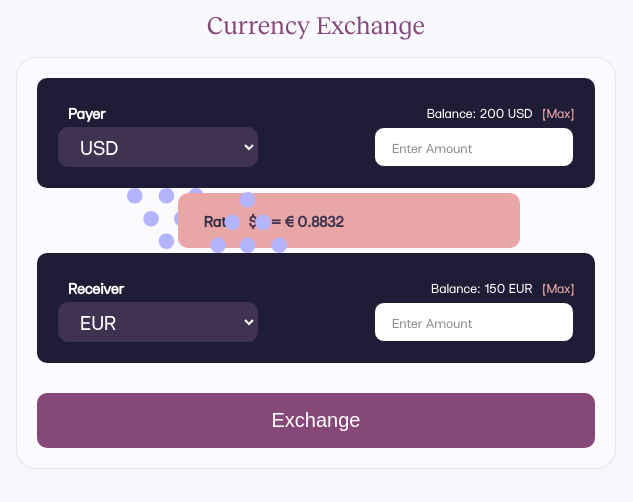
Scenario: Exceed Balance
expect the text "$ 1 = € 0.8832" is shown: met, box [248,212,344,230]
Type "500" into the number field named "Payer-input" at [474, 147], box [374,127,574,167]
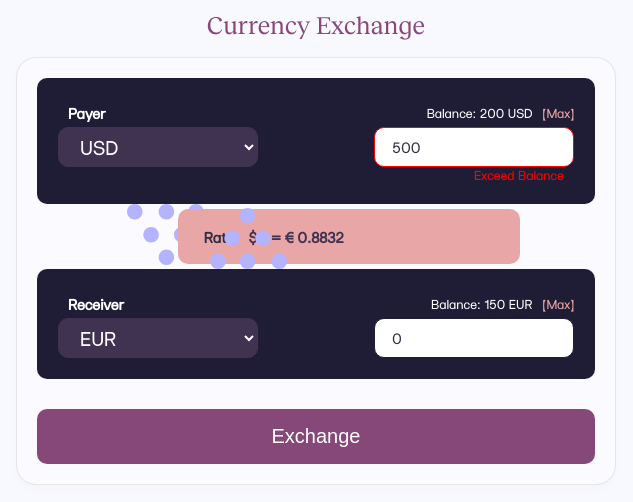
expect the text "Exceed Balance" is shown: met, box [474,167,564,183]
